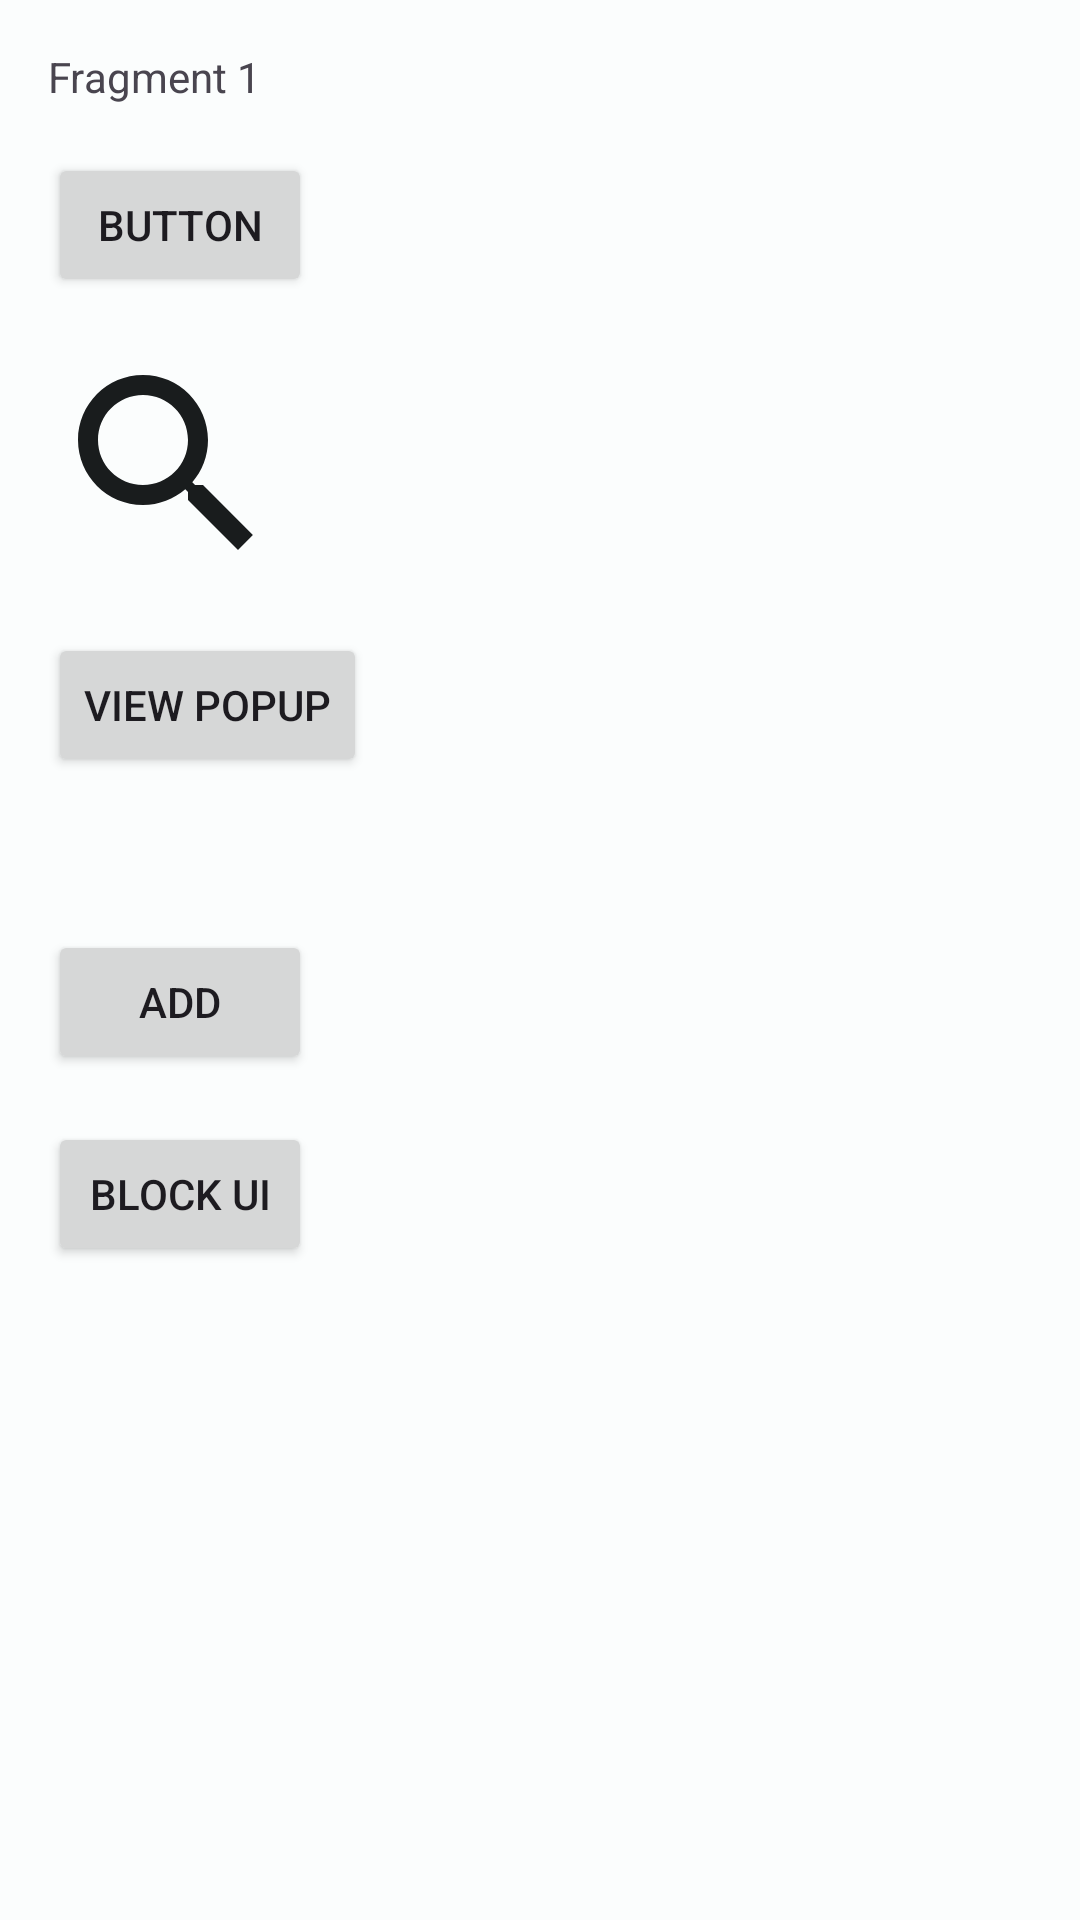

Locate icon controls on the screen. Image size 1080x1920, boxes as (x1, y1, x2, y2).
search: (78, 375, 253, 550)
